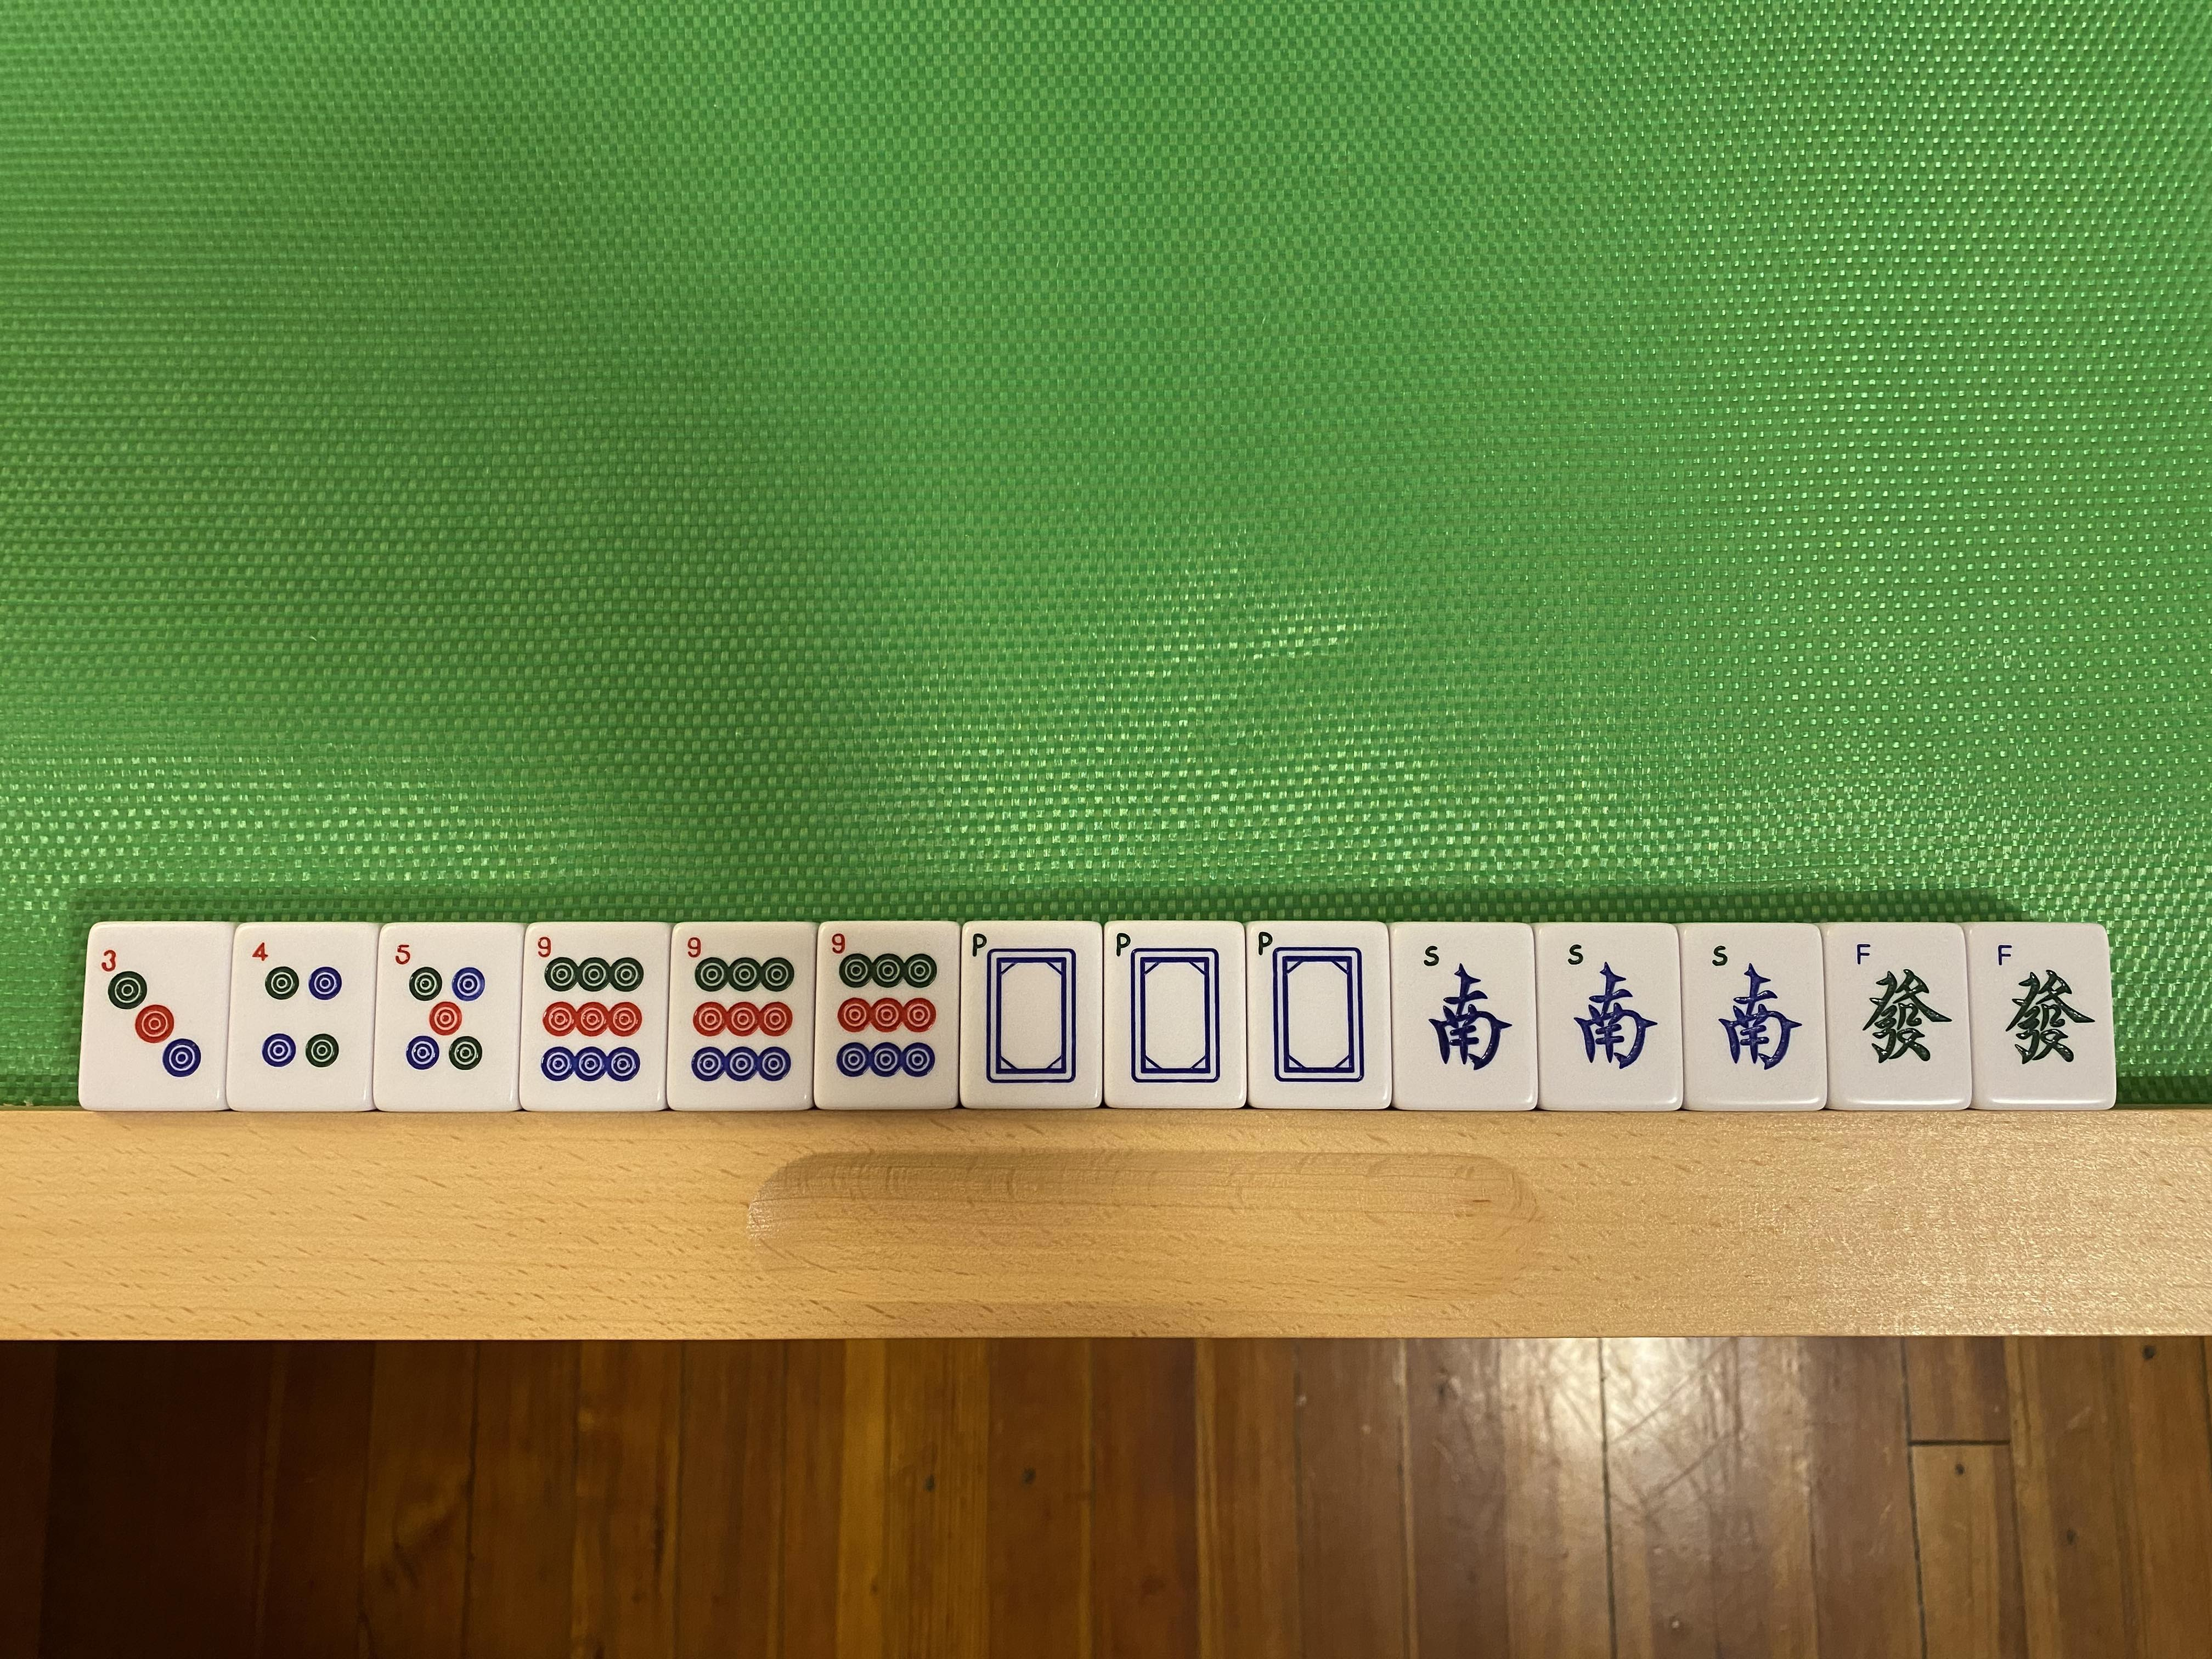circle-five: (381, 929, 514, 1110)
circle-four: (237, 929, 369, 1107)
circle-nine: (819, 922, 956, 1108), (674, 922, 812, 1107), (528, 925, 662, 1107)
circle-three: (92, 924, 225, 1107)
honor-blue_dragon: (1104, 924, 1245, 1107), (1252, 924, 1390, 1110), (963, 924, 1099, 1101)
honor-green_dragon: (1827, 925, 1968, 1108), (1972, 927, 2102, 1108)
honor-south_wind: (1538, 925, 1681, 1110), (1683, 925, 1822, 1108), (1395, 925, 1533, 1107)
